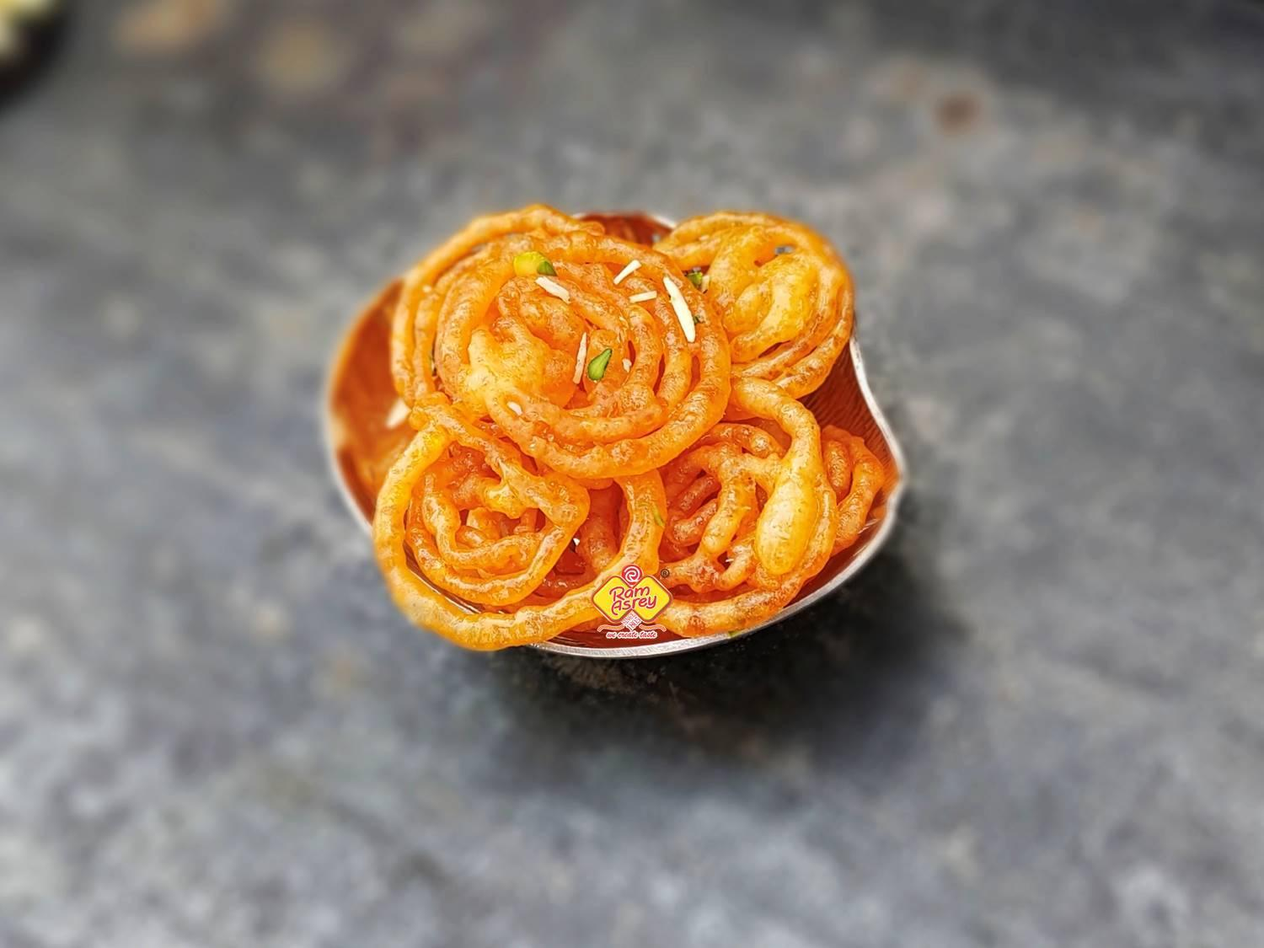jalebi: (393, 212, 879, 665)
